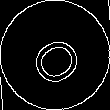O_NE: (22, 23, 88, 87)
